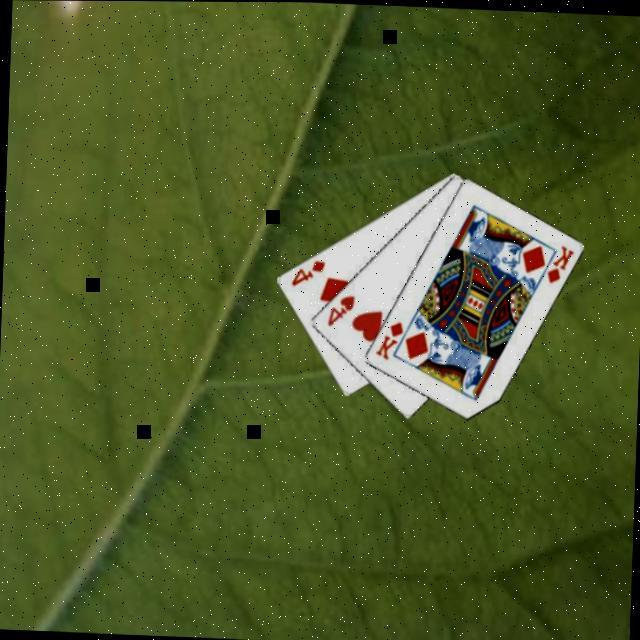4D: (285, 255, 325, 288)
4H: (322, 289, 355, 328)
KD: (369, 316, 403, 361), (541, 240, 574, 284)
